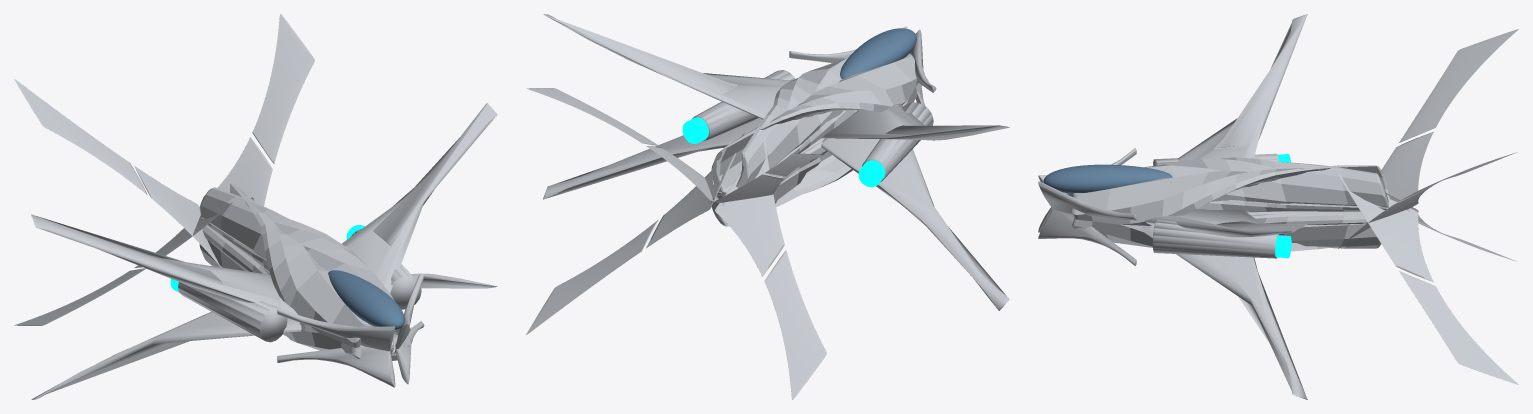
Rendered from Enemy008.glb.
3 views of the same model, side by side, from view 1: azimuth 30°, elevation 25°; view 2: azimuth 150°, elevation 25°; view 3: azimuth 270°, elevation 25° (orthographic). The views are drawn at different scales.
Parts seen in each view (by area): view 1: assembly_02_WingMain, assembly_01_Body, assembly_04_Tail, assembly_08_AileronWing, assembly_06_EnginePod0, assembly_05_Canopy; view 2: assembly_02_WingMain, assembly_04_Tail, assembly_01_Body, assembly_06_EnginePod0, assembly_05_Canopy, assembly_08_AileronWing; view 3: assembly_01_Body, assembly_04_Tail, assembly_02_WingMain, assembly_06_EnginePod0, assembly_08_AileronWing, assembly_05_Canopy.
Boxes of the visible parts, left/top/right/bottom form: assembly_02_WingMain: left=31, top=103, right=497, bottom=399; assembly_01_Body: left=199, top=183, right=410, bottom=360; assembly_04_Tail: left=14, top=14, right=314, bottom=325; assembly_08_AileronWing: left=277, top=273, right=424, bottom=387; assembly_06_EnginePod0: left=170, top=225, right=421, bottom=342; assembly_05_Canopy: left=328, top=270, right=404, bottom=329; assembly_02_WingMain: left=543, top=14, right=1009, bottom=310; assembly_04_Tail: left=526, top=88, right=826, bottom=399; assembly_01_Body: left=711, top=53, right=922, bottom=226; assembly_06_EnginePod0: left=682, top=70, right=933, bottom=187; assembly_05_Canopy: left=840, top=28, right=916, bottom=78; assembly_08_AileronWing: left=789, top=26, right=936, bottom=140; assembly_01_Body: left=1066, top=157, right=1389, bottom=251; assembly_04_Tail: left=1338, top=29, right=1518, bottom=384; assembly_02_WingMain: left=1144, top=14, right=1307, bottom=399; assembly_06_EnginePod0: left=1152, top=153, right=1291, bottom=258; assembly_08_AileronWing: left=1038, top=148, right=1136, bottom=265; assembly_05_Canopy: left=1043, top=164, right=1172, bottom=193.
Size of the model in its own units: 5.24 by 2.67 by 4.99.
